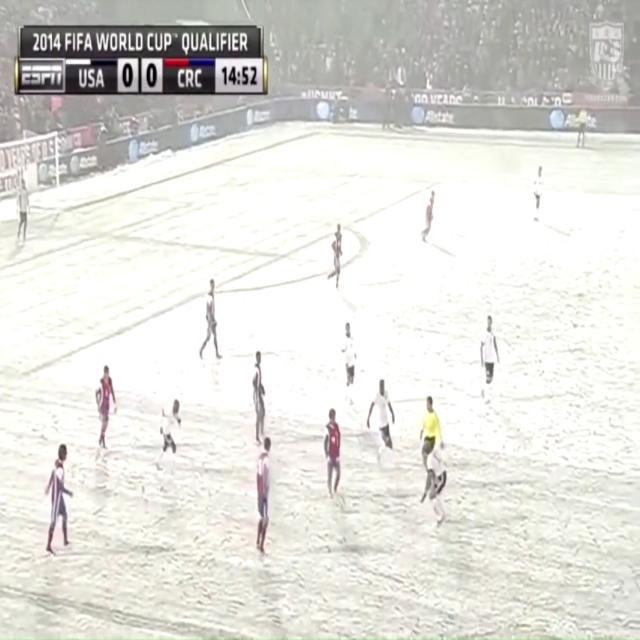goalkeeper: (13, 175, 37, 246)
player: (43, 427, 83, 571), (251, 435, 282, 560), (88, 356, 120, 465), (418, 440, 455, 532), (155, 388, 189, 485), (200, 274, 231, 373), (372, 379, 404, 474), (319, 404, 346, 512), (480, 302, 503, 407), (251, 343, 269, 453), (339, 320, 362, 403), (328, 211, 348, 293), (422, 184, 442, 247), (529, 161, 548, 221)
referee: (419, 389, 438, 484), (576, 103, 590, 151)
